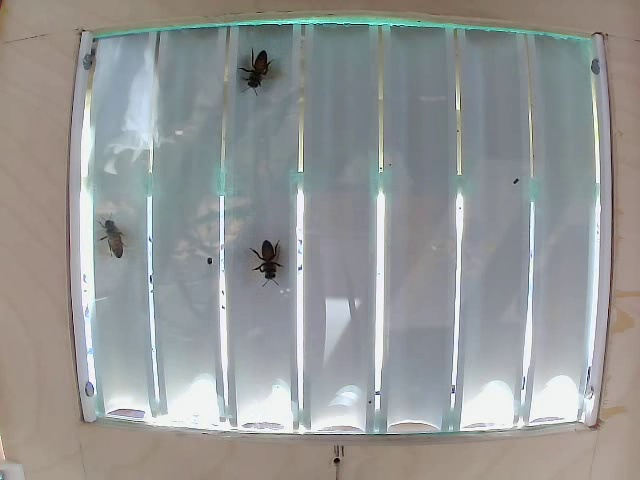bee: (242, 231, 294, 289), (242, 48, 284, 102), (93, 215, 141, 260)
